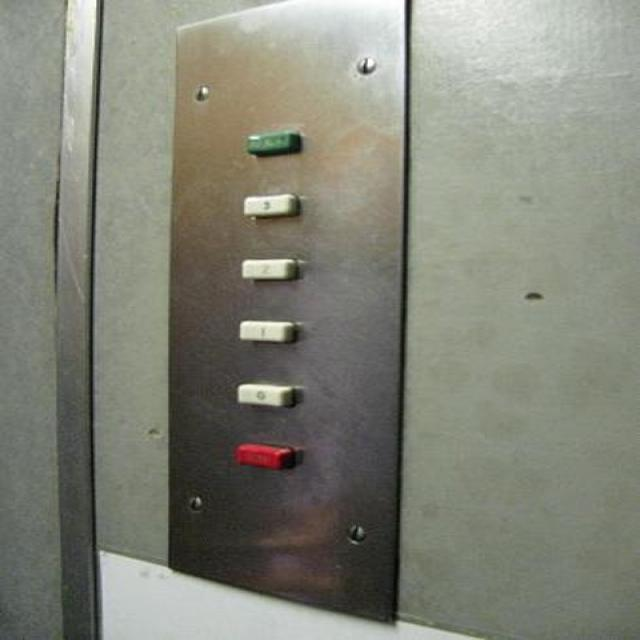1: (229, 314, 303, 347)
2: (231, 252, 304, 285)
3: (233, 188, 307, 221)
G: (228, 379, 301, 412)
text: (235, 127, 308, 160), (228, 439, 301, 472)
